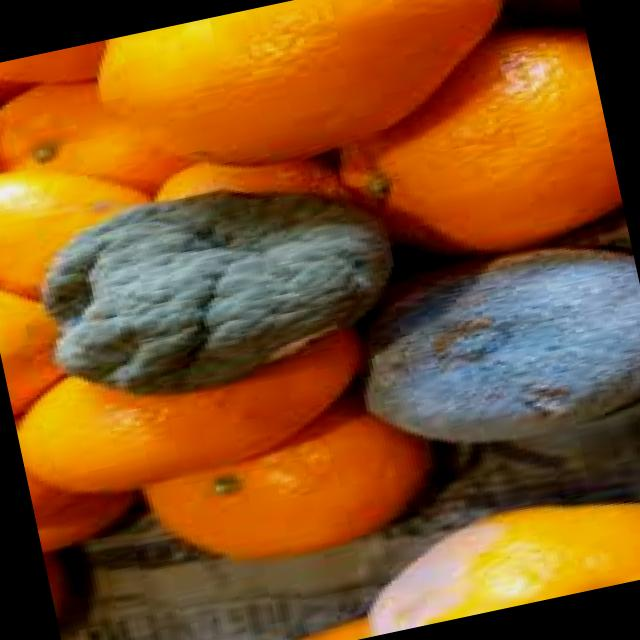organic: (0, 0, 640, 509), (308, 473, 640, 640), (188, 378, 414, 569)
